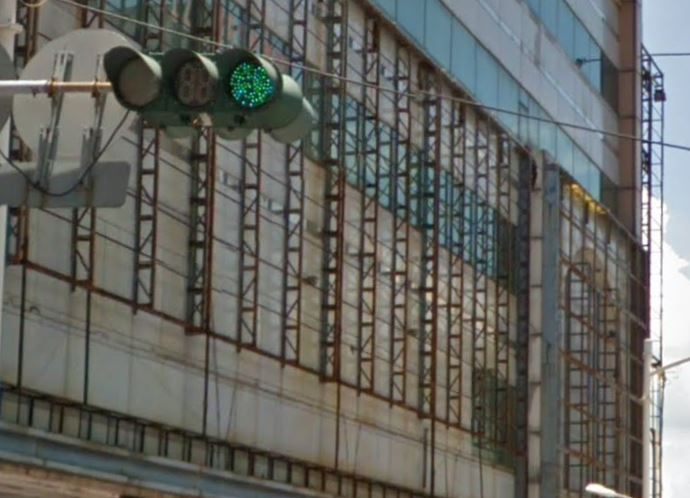Traffic_light_green: (102, 42, 316, 141)
